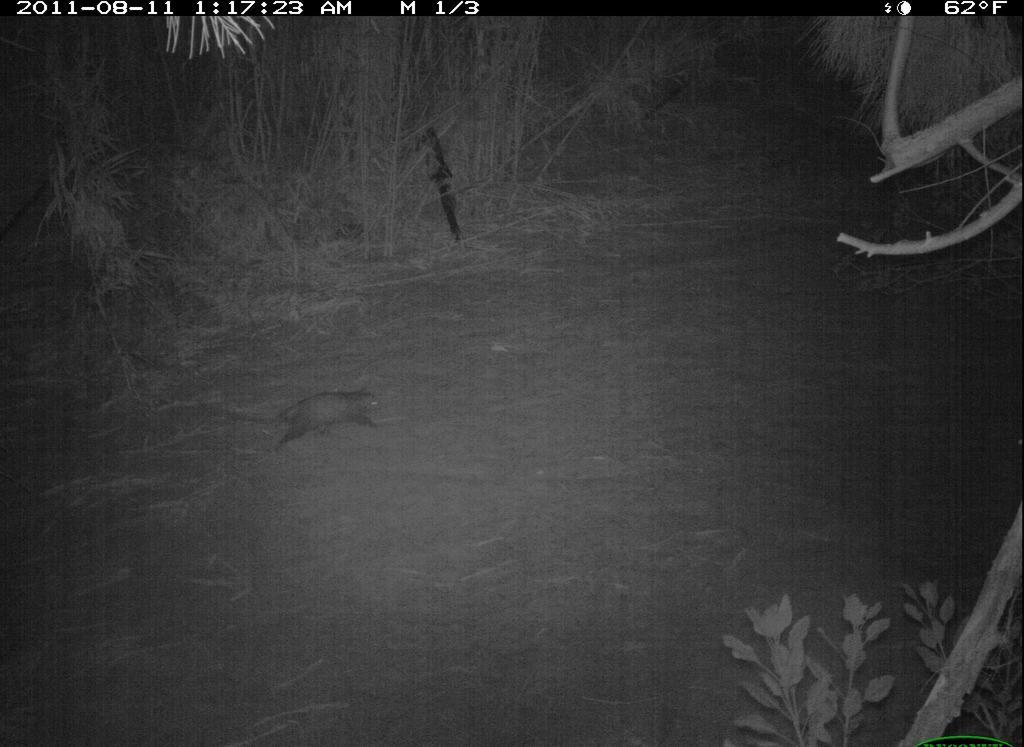opossum: (223, 390, 385, 460)
